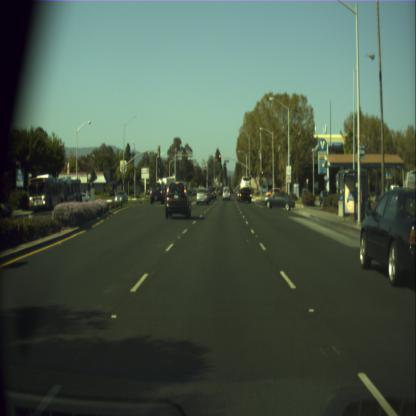Red: (260, 170, 264, 176), (218, 153, 220, 162), (204, 166, 206, 174), (249, 174, 250, 178)
off: (259, 179, 260, 185), (260, 172, 260, 177)
